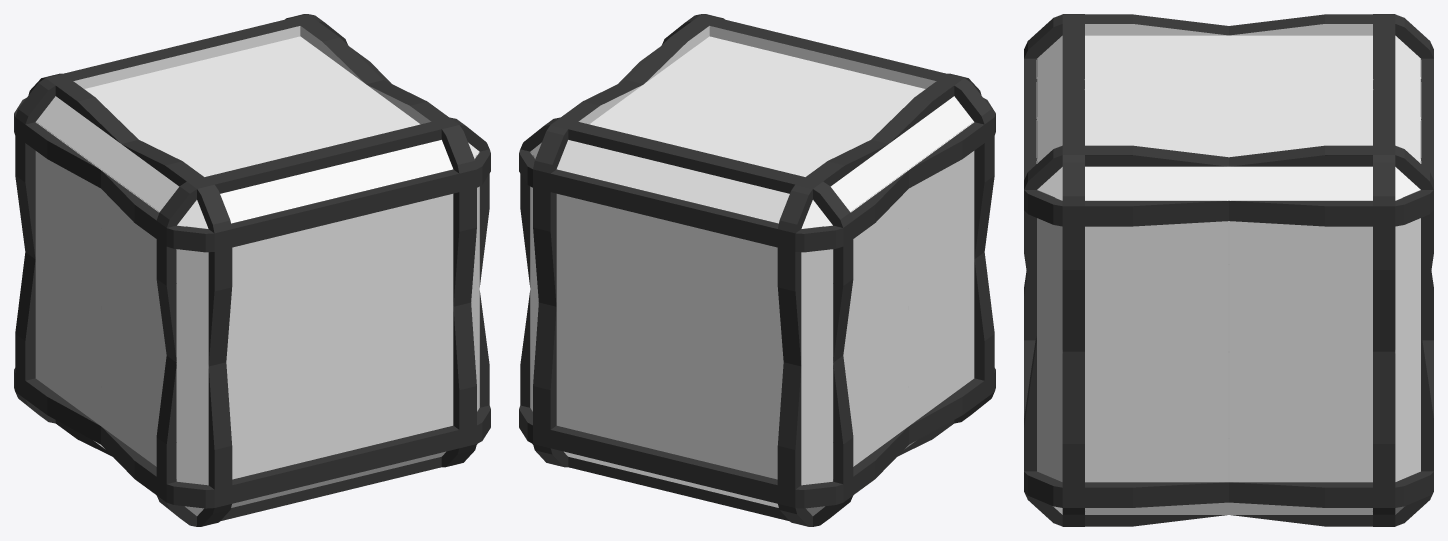
The model's file is crate_v2.glb.
3 renders of one model, left to right at view 1: azimuth 30°, elevation 25°; view 2: azimuth 150°, elevation 25°; view 3: azimuth 270°, elevation 25°, orthographic. The views are drawn at different scales.
Parts seen in each view (by area): view 1: Crate; view 2: Crate; view 3: Crate.
Part boxes in pixels (left/top/right/bottom): Crate: left=14, top=14, right=490, bottom=526; Crate: left=519, top=14, right=995, bottom=526; Crate: left=1024, top=14, right=1433, bottom=526.
Size of the model in its own units: 0.8 by 0.8 by 0.8.
Materials: 1 (1 with a texture image).
